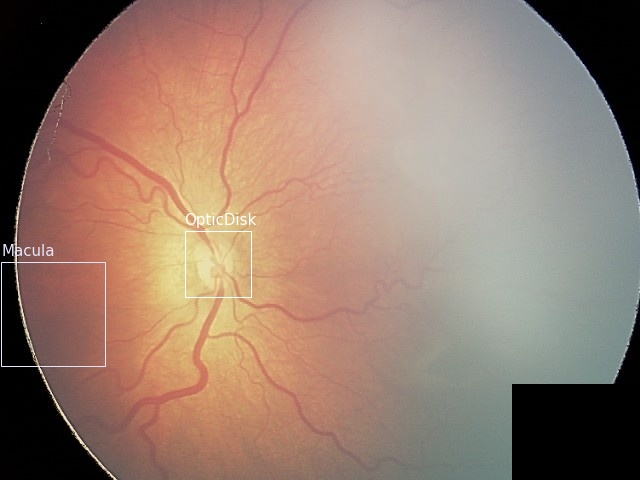Macula: (0, 261, 104, 365)
OpticDisk: (184, 230, 250, 296)
